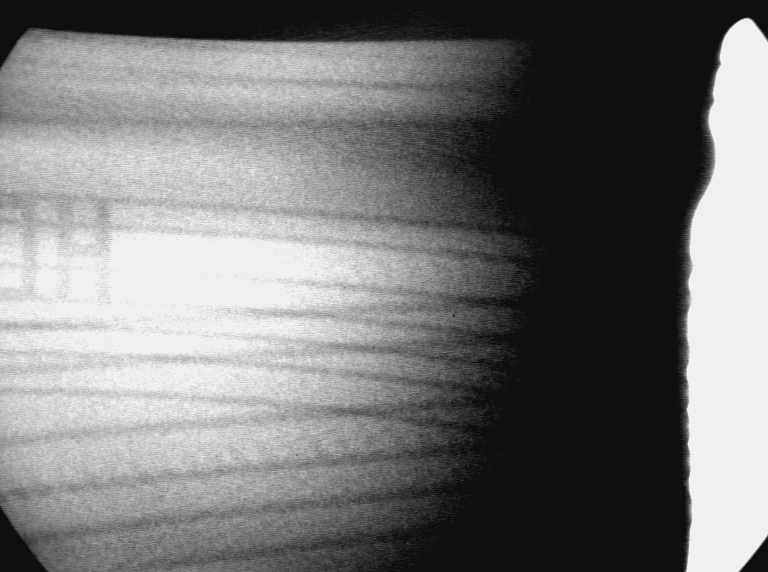defect: (3, 186, 117, 305)
